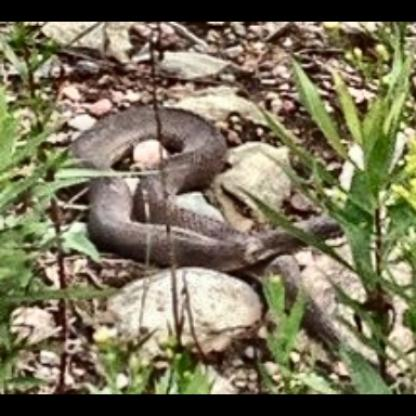Snake: (67, 102, 346, 308)
